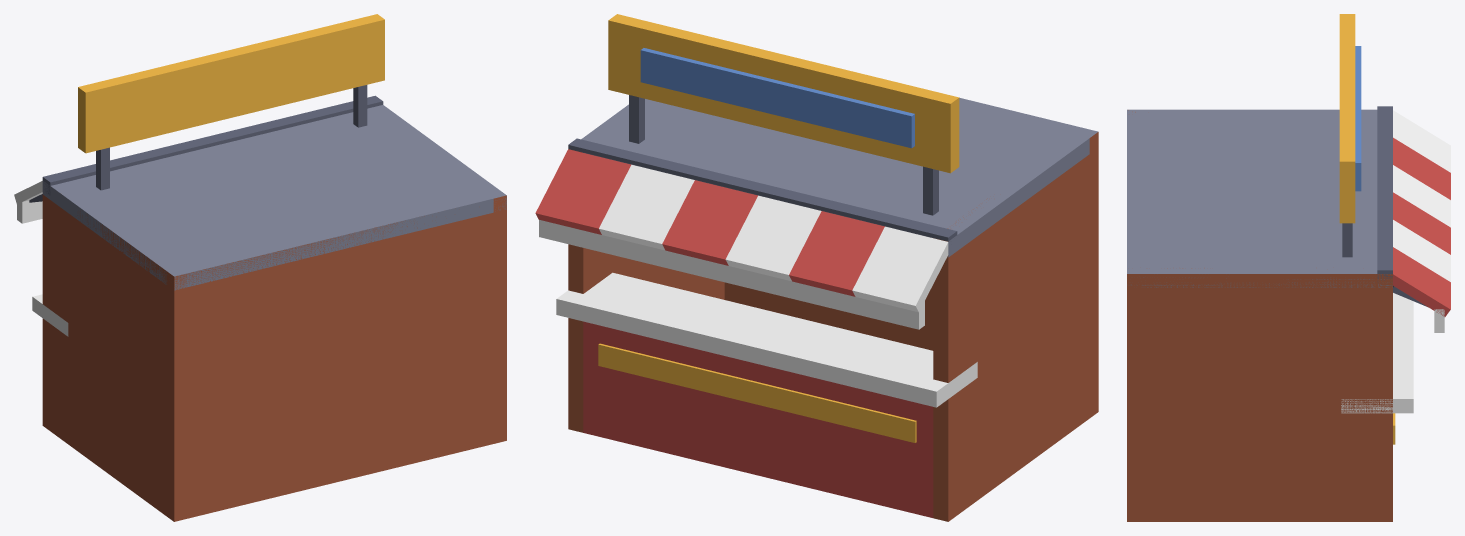
Rendered from stand-forain.glb.
The picture shows the model from 3 angles, left to right: view 1: azimuth 30°, elevation 25°; view 2: azimuth 150°, elevation 25°; view 3: azimuth 270°, elevation 25°; orthographic projection. The views are drawn at different scales.
Visible parts, largest first — view 1: fond, toit-plat, joue-0, enseigne, auvent-panne, joue-1, enseigne-pied-1, comptoir-tablette, enseigne-pied-0; view 2: joue-0, comptoir, toit-plat, comptoir-tablette, enseigne, enseigne-texte, comptoir-bandeau, fond, auvent-lambrequin, joue-1, auvent-bande-0, auvent-panne (+7 smaller); view 3: joue-1, toit-plat, fond, enseigne, comptoir-tablette, auvent-panne, auvent-bande-5, auvent-bande-2, auvent-bande-4, auvent-bande-0, auvent-bande-1, auvent-bande-3 (+2 smaller).
Part boxes in pixels (left/top/right/bottom): fond: left=166, top=212, right=493, bottom=521; toit-plat: left=42, top=105, right=506, bottom=290; joue-0: left=42, top=194, right=187, bottom=521; enseigne: left=78, top=14, right=384, bottom=153; auvent-panne: left=42, top=95, right=383, bottom=195; joue-1: left=493, top=195, right=506, bottom=443; enseigne-pied-1: left=353, top=85, right=367, bottom=127; comptoir-tablette: left=32, top=294, right=68, bottom=336; enseigne-pied-0: left=96, top=147, right=109, bottom=190; joue-0: left=933, top=154, right=1089, bottom=521; comptoir: left=583, top=321, right=933, bottom=517; toit-plat: left=569, top=97, right=1097, bottom=257; comptoir-tablette: left=556, top=272, right=977, bottom=407; enseigne: left=608, top=14, right=959, bottom=173; enseigne-texte: left=640, top=48, right=914, bottom=148; comptoir-bandeau: left=598, top=343, right=916, bottom=442; fond: left=724, top=132, right=1098, bottom=417; auvent-lambrequin: left=539, top=220, right=924, bottom=329; joue-1: left=568, top=149, right=724, bottom=432; auvent-bande-0: left=852, top=226, right=948, bottom=312; auvent-panne: left=568, top=138, right=957, bottom=241; joue-1: left=1127, top=268, right=1392, bottom=521; toit-plat: left=1127, top=109, right=1392, bottom=287; fond: left=1127, top=110, right=1142, bottom=521; enseigne: left=1339, top=14, right=1355, bottom=223; comptoir-tablette: left=1341, top=293, right=1413, bottom=413; auvent-panne: left=1377, top=106, right=1392, bottom=282; auvent-bande-5: left=1393, top=247, right=1450, bottom=316; auvent-bande-2: left=1393, top=165, right=1450, bottom=227; auvent-bande-4: left=1393, top=220, right=1450, bottom=281; auvent-bande-0: left=1393, top=110, right=1450, bottom=172; auvent-bande-1: left=1393, top=137, right=1450, bottom=199; auvent-bande-3: left=1393, top=192, right=1450, bottom=254.
Bounding box in the file's own units: 0.15 × 0.15 × 0.125.
